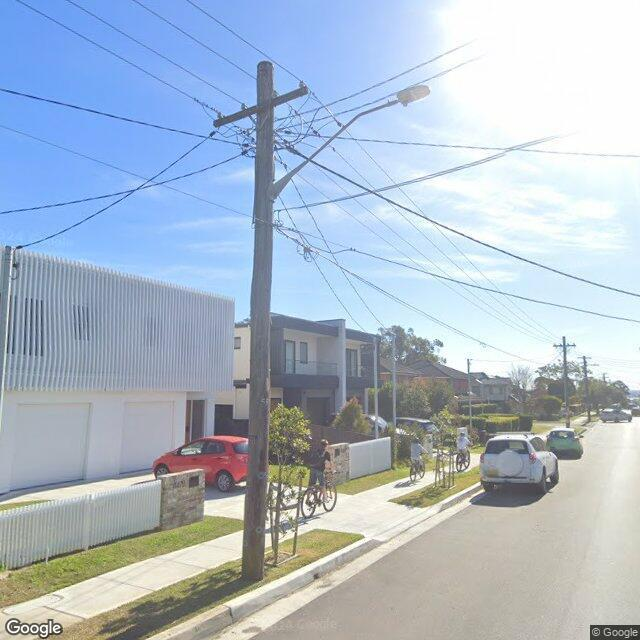crossarm: (213, 85, 310, 128), (553, 344, 576, 348), (577, 357, 591, 359), (598, 377, 609, 378)
steel-pole: (0, 245, 16, 398), (391, 333, 397, 467), (372, 336, 379, 440), (467, 358, 472, 427)
streetlight: (266, 81, 432, 203)
timber-pole: (240, 61, 275, 581), (562, 336, 570, 428), (584, 355, 590, 422), (602, 372, 606, 385)
